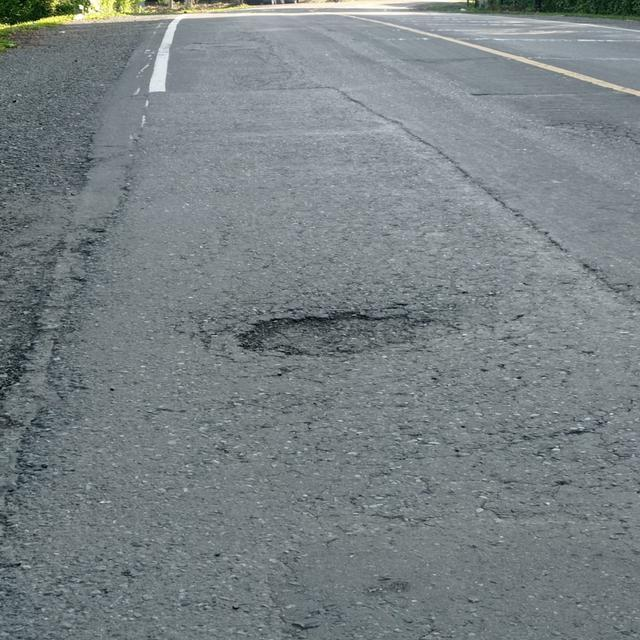Lubang: (243, 303, 465, 366)
